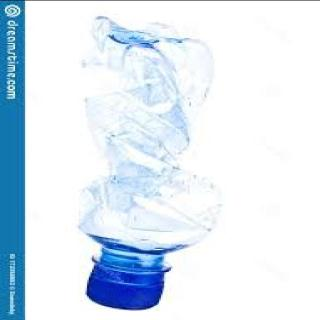Anorganik: (66, 11, 232, 319)
